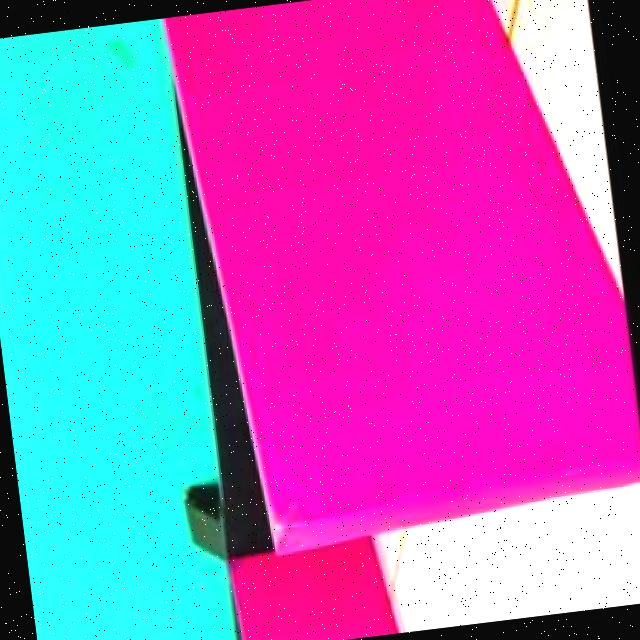xparking: (215, 0, 634, 514), (241, 563, 394, 640)
